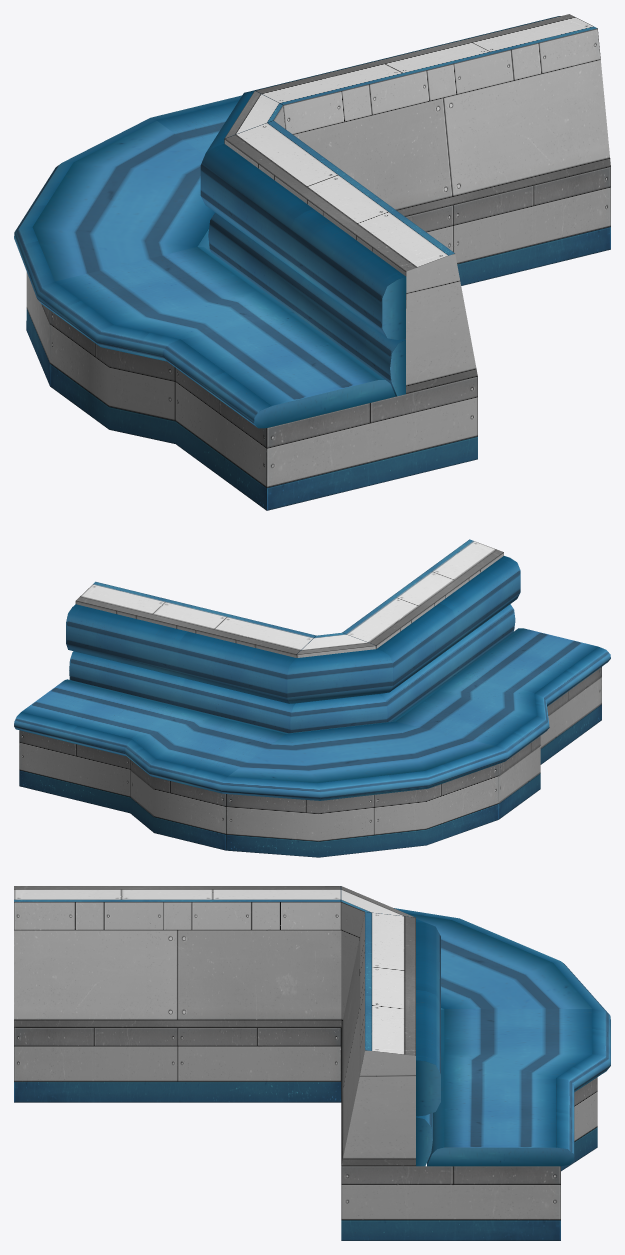
The model's file is Seat_AngleOut_01.FBX.
3 views of the same model, one above another, from view 1: azimuth 30°, elevation 25°; view 2: azimuth 150°, elevation 25°; view 3: azimuth 270°, elevation 25° (orthographic). The views are drawn at different scales.
Parts seen in each view (by area): view 1: Seat_AngleOut_01; view 2: Seat_AngleOut_01; view 3: Seat_AngleOut_01.
Part boxes in pixels (bbox=[...]): Seat_AngleOut_01: bbox=[14, 14, 610, 510]; Seat_AngleOut_01: bbox=[14, 539, 610, 857]; Seat_AngleOut_01: bbox=[14, 886, 610, 1240].
Size of the model in its own units: 123 by 43.22 by 123.
